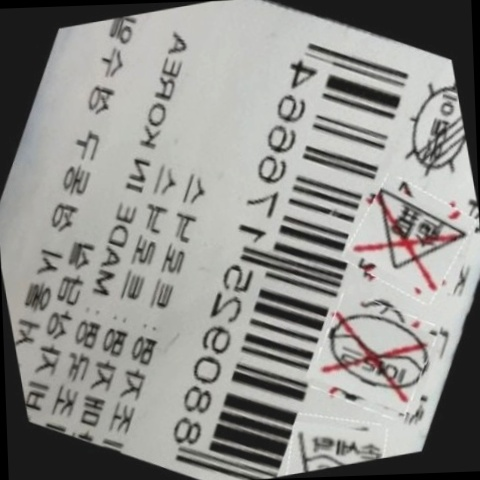DN_dry_clean: (321, 295, 435, 410)
hand_wash: (294, 411, 387, 473)
line_dry_in_shade: (396, 78, 470, 178)
non_chlorine_bleach: (361, 178, 472, 288)
